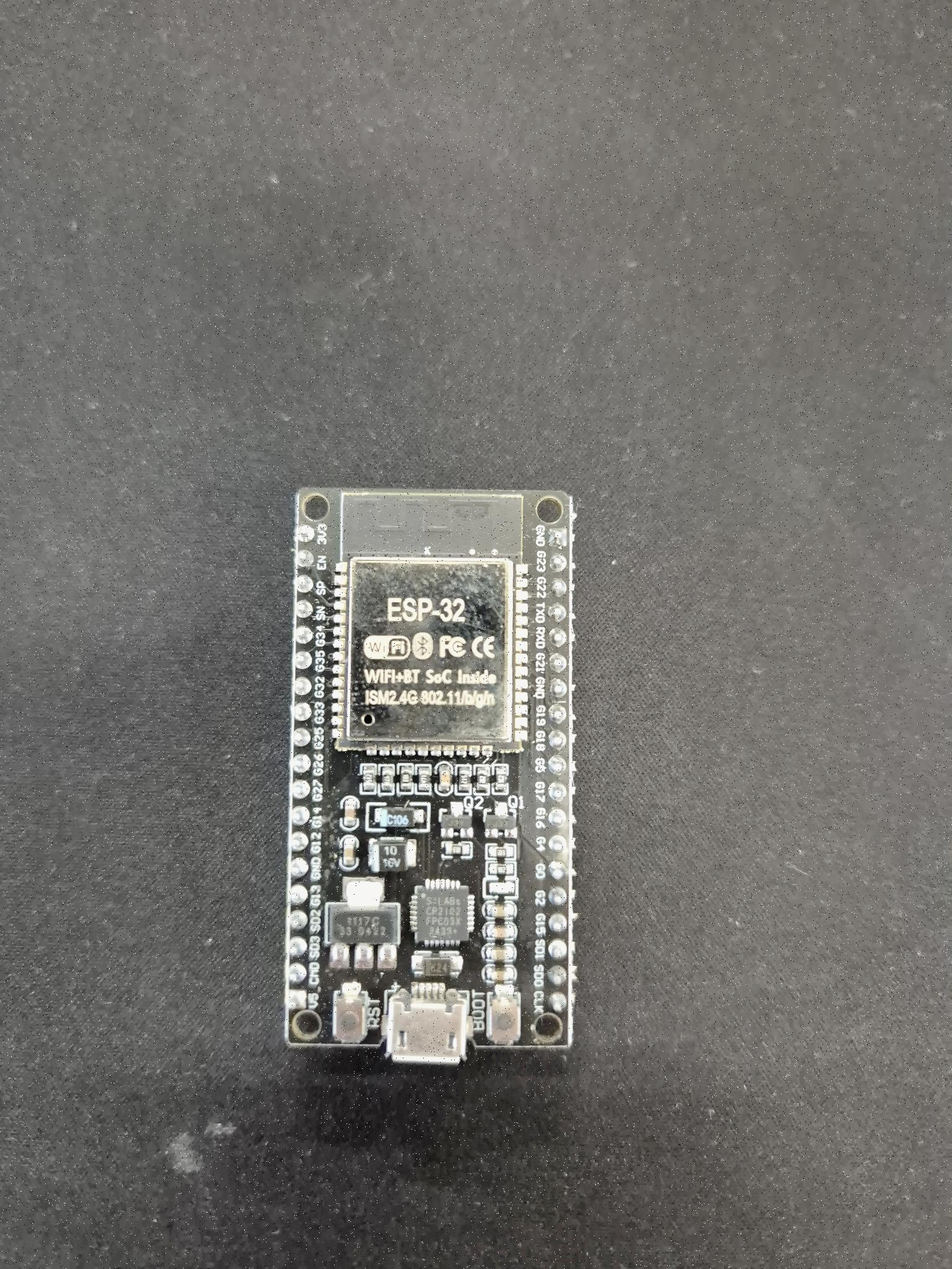esp32-dev: (297, 484, 573, 1055)
